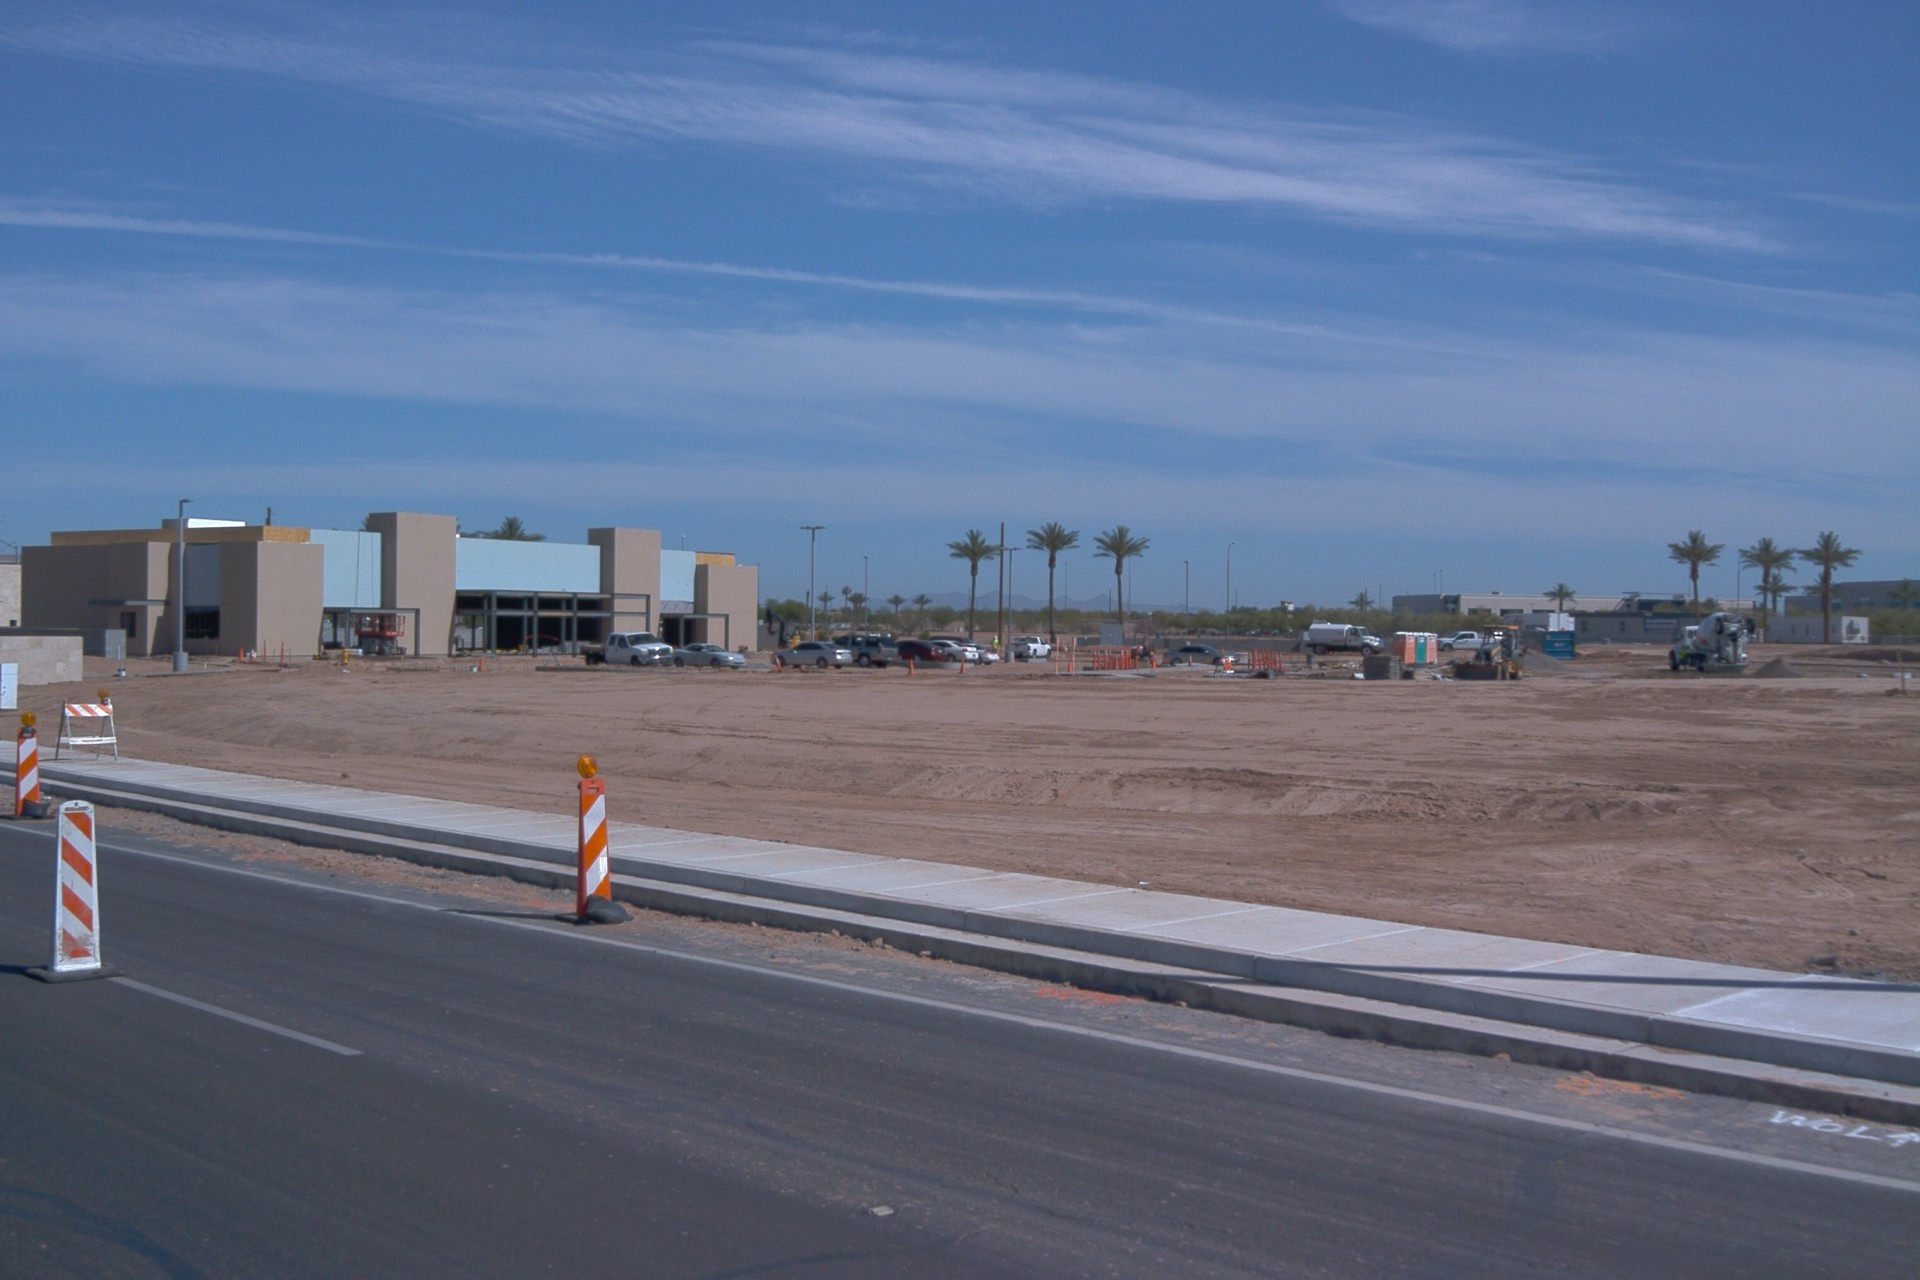TYPE_PEDESTRIAN: (1675, 643, 1690, 672), (991, 631, 1002, 657), (1014, 634, 1021, 645)
TYPE_VEHICLE: (1662, 609, 1751, 672), (1452, 620, 1529, 678), (578, 628, 673, 669), (829, 623, 899, 667), (1307, 622, 1386, 659), (769, 638, 855, 669), (894, 627, 951, 660), (673, 642, 748, 665), (1159, 645, 1238, 666), (1438, 630, 1497, 651), (928, 637, 980, 660), (1003, 633, 1052, 657), (967, 641, 1001, 666), (930, 634, 977, 647), (357, 616, 376, 630), (867, 634, 880, 639)
